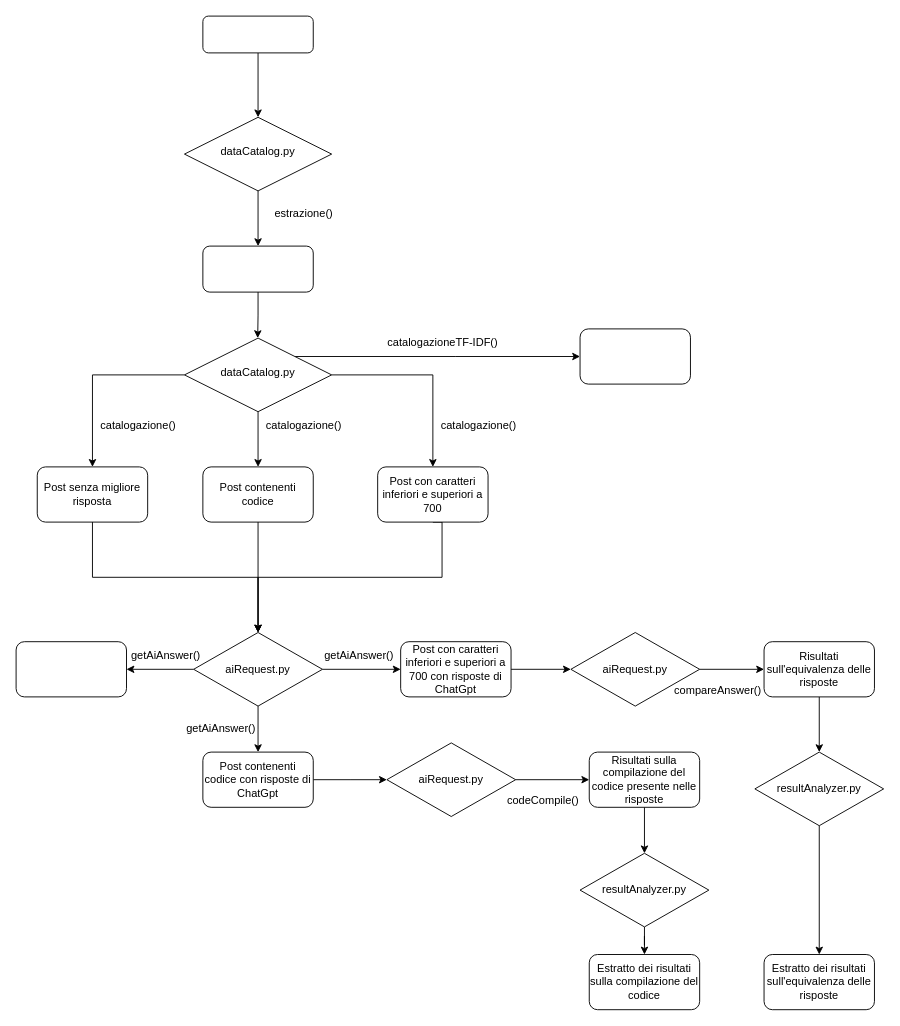
Image size: 900x1026. Some labels were removed from this diagram. The shapes that lost their labels are listed below. From the top down, each one's centre as x and y in pixels, then its label:
At point (257, 34): "Dataset StackOverflow".
At point (257, 268): "Dataset estratto".
At point (634, 356): "Post per uno specifico termine".
At point (70, 669): "Post senza migliori risposte con risposte di ChatGpt".
